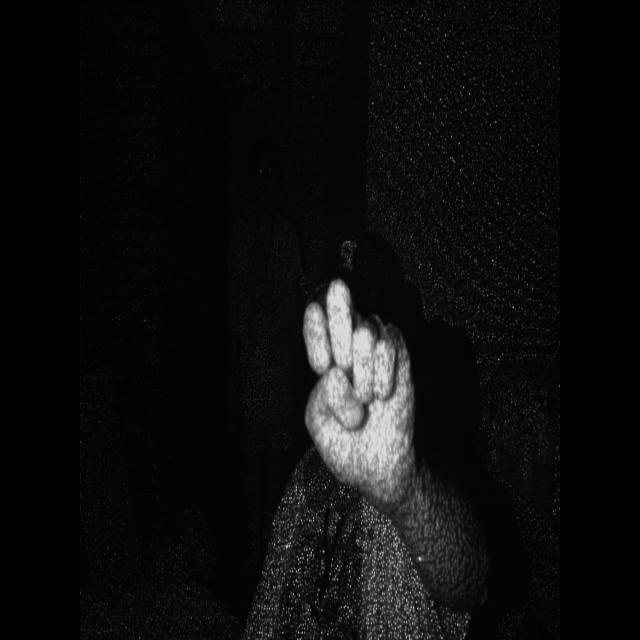T: (286, 266, 440, 522)
